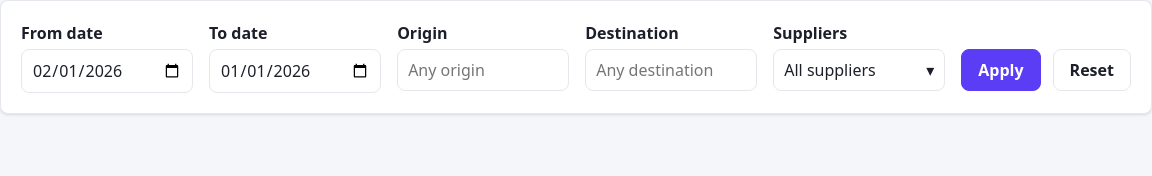
Test: HistoryFiltersComponent › does not apply an end date before the start date
Click the button "Apply": (1001, 70) [961,49,1041,91]
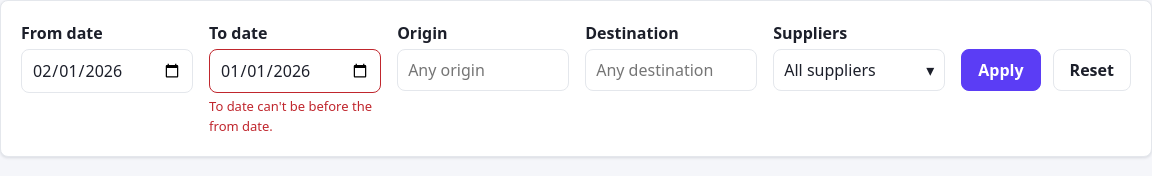
Result: the text "To date can't be before the from date." is shown at [209,97,381,136]
